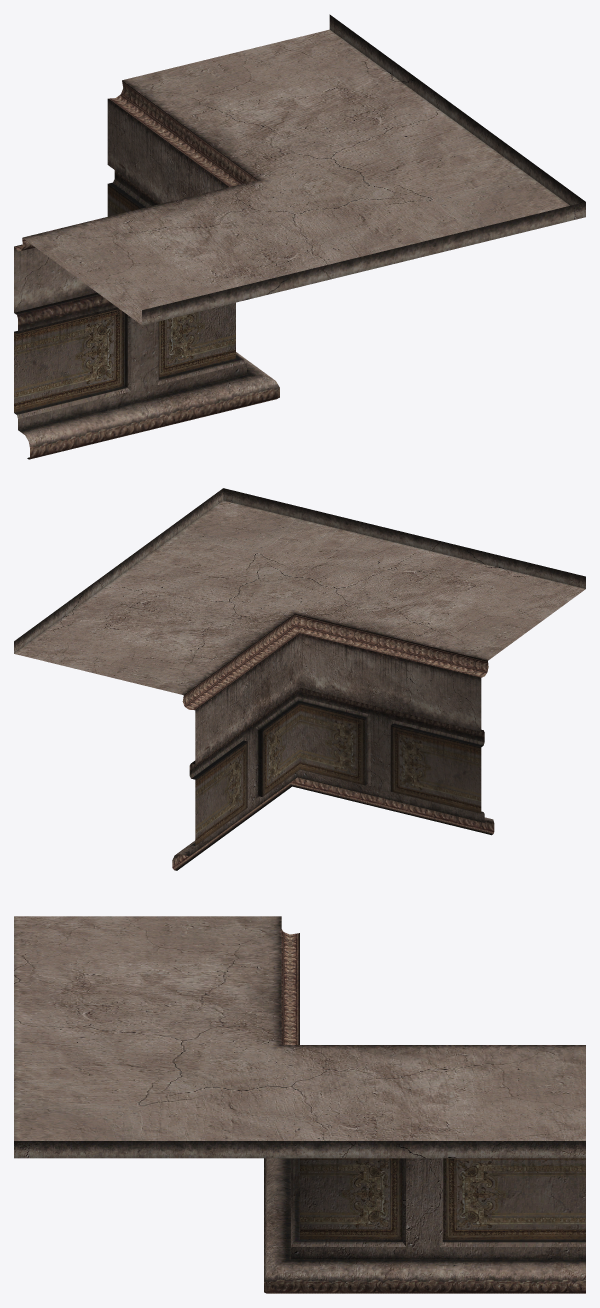
The model's file is 42_corner_convex_short.dae.
3 views of the same model, one above another, from view 1: azimuth 30°, elevation 25°; view 2: azimuth 150°, elevation 25°; view 3: azimuth 270°, elevation 25° (orthographic). The views are drawn at different scales.
Parts seen in each view (by area): view 1: corner_convex_short; view 2: corner_convex_short; view 3: corner_convex_short.
Boxes of the visible parts, <box> form: corner_convex_short: <box>14,14,585,459</box>; corner_convex_short: <box>14,488,585,870</box>; corner_convex_short: <box>14,916,585,1293</box>.
Size of the model in its own units: 4 by 2 by 4.
Materials: 1 (1 with a texture image).
